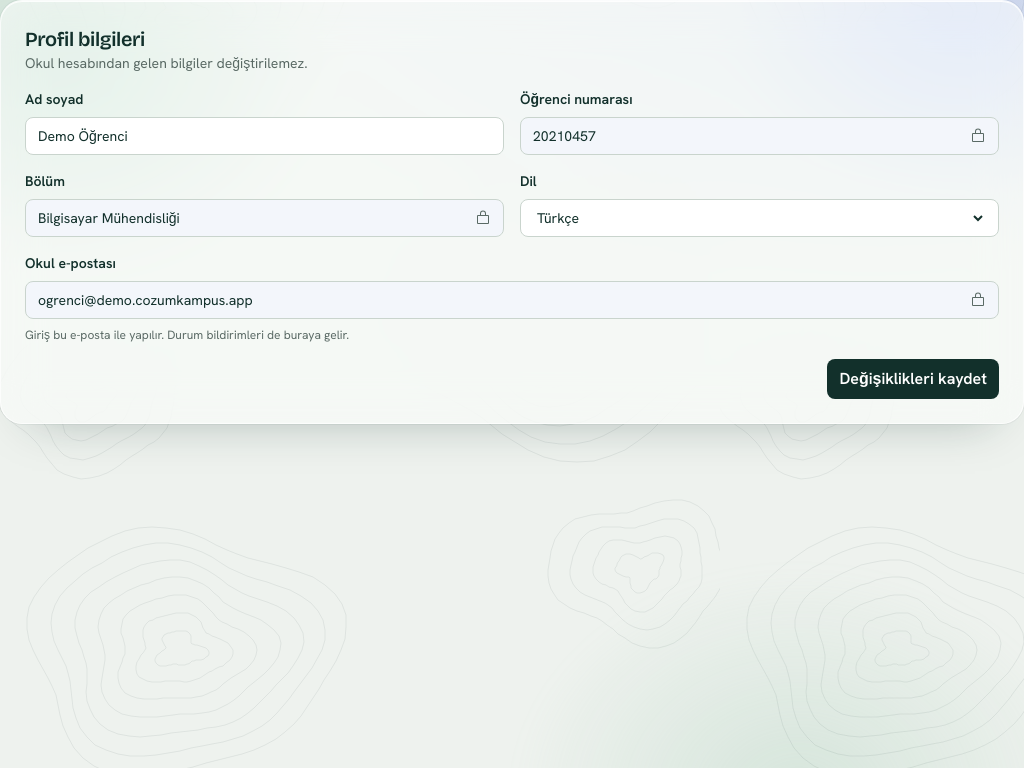
Test case: ProfileForm › saves only the editable fields
Replace the text in the field labelled "Ad soyad" with "  Zeynep Kaya ": (264, 136) [38, 126, 491, 146]
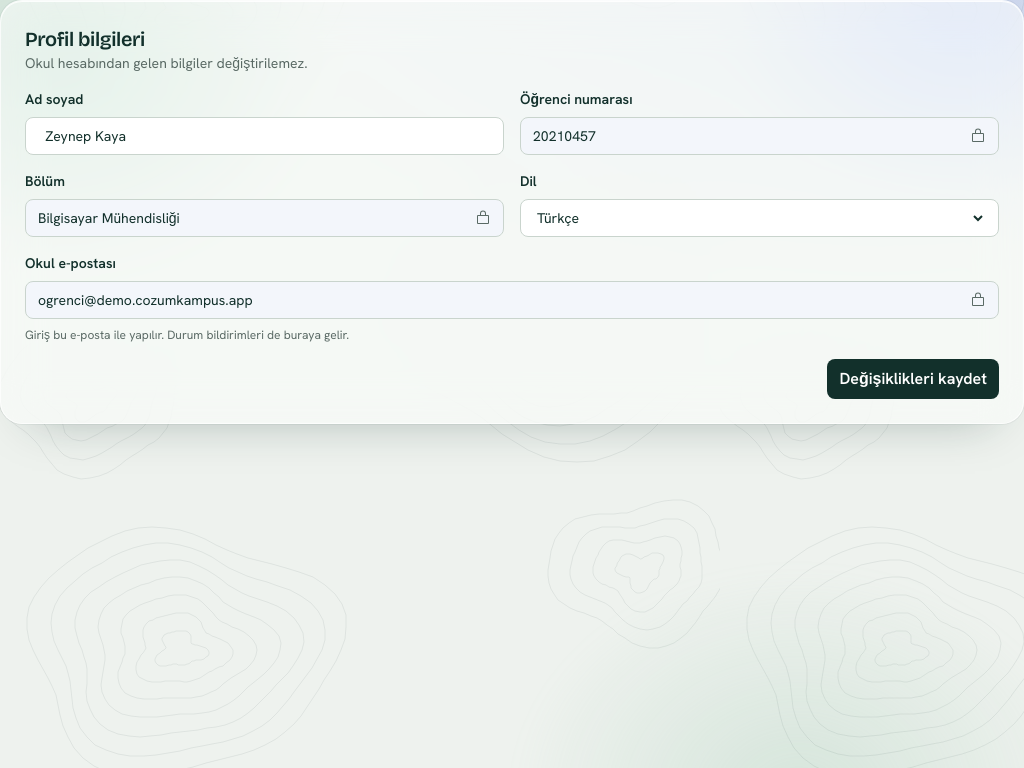
Click the button "Değişiklikleri kaydet": (913, 379) [828, 359, 999, 399]
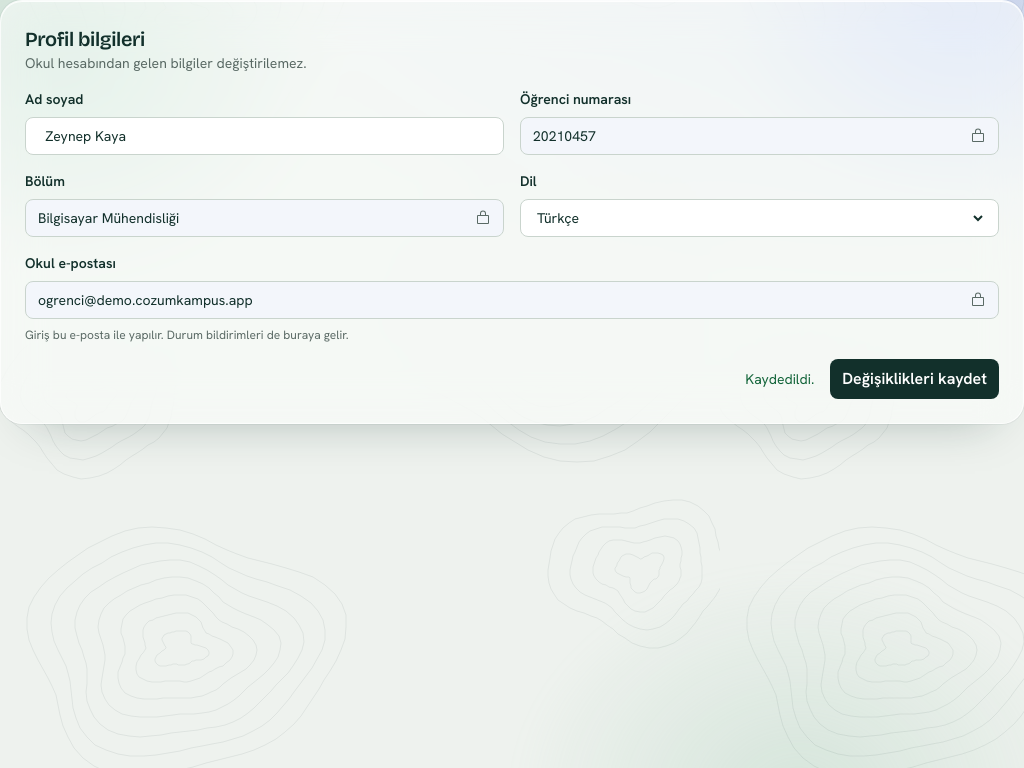
Expected: the text "Kaydedildi." is shown, [745, 369, 814, 389]
